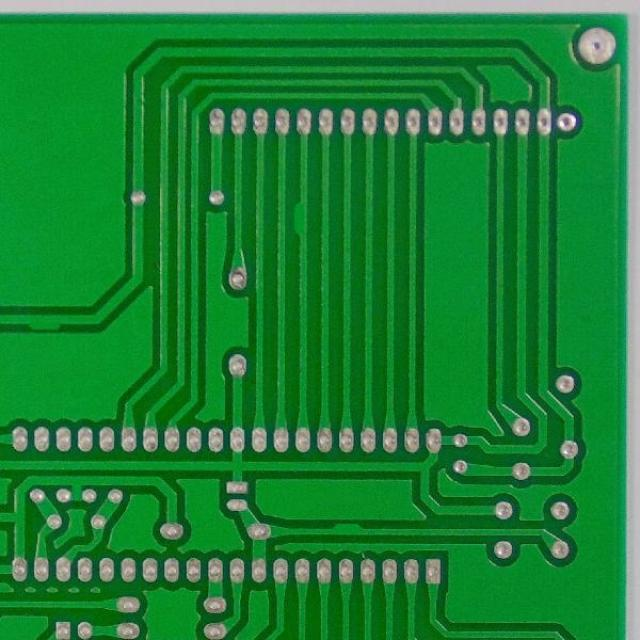Spur: (20, 308, 67, 334), (289, 194, 310, 242), (326, 520, 368, 540)
